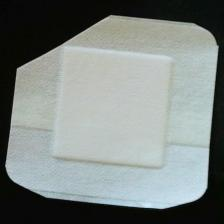Cut: (3, 10, 222, 216)
